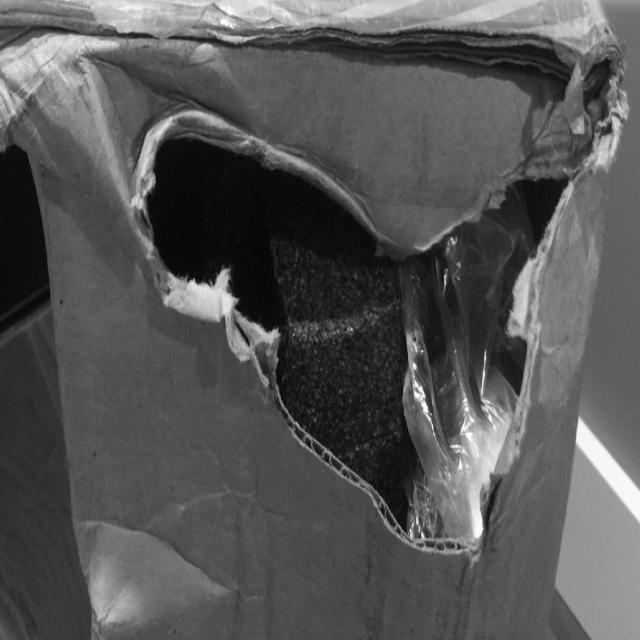hole: (140, 97, 598, 577)
